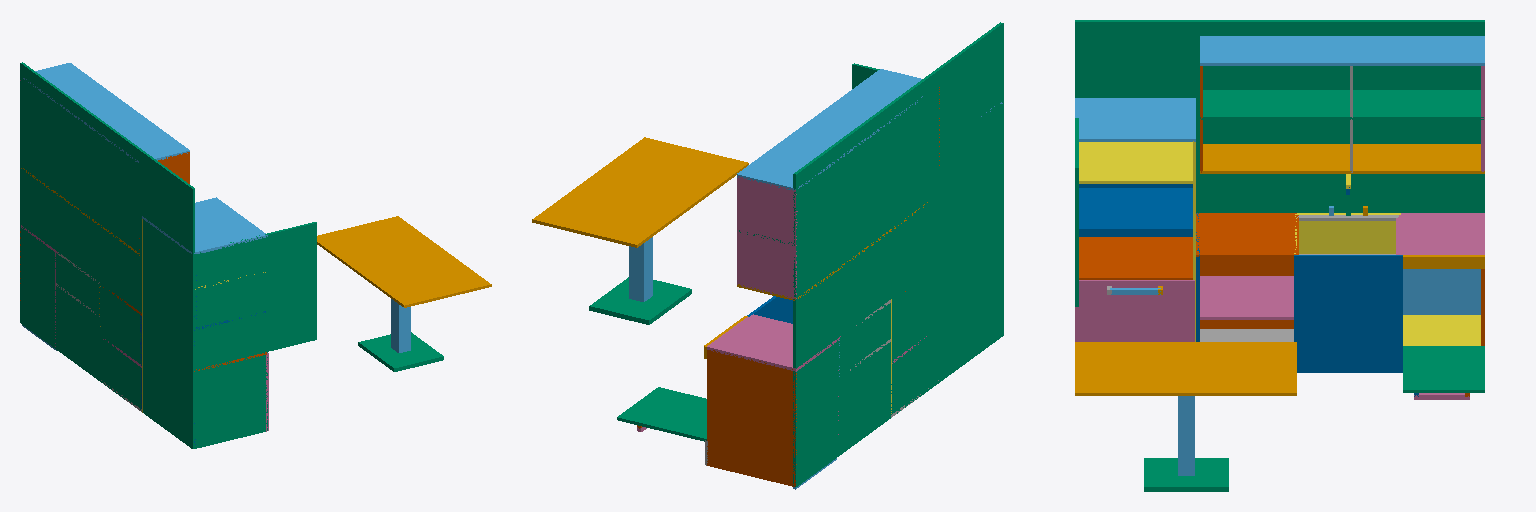
--- What the picture shows (computed from the rendered views, not written in the file) ---
3 views of the same robot in one strip: view 1: azimuth 30°, elevation 25°; view 2: azimuth 150°, elevation 25°; view 3: azimuth 270°, elevation 25° (orthographic).
Model kitchen with 51 links and 50 joints (50 fixed), rooted at world, posed all joints at 0.
Visible links, largest first — view 1: back_wall, fridge_left_wall, fridge_door, tabletop, cabinet_top, fridge_top, table_bottom, table_leg, cabinet_left_wall; view 2: back_wall, tabletop, dishwasher_right_side, cabinet_top, cabinet_right_wall, countertop_right, dishwasher_door, table_bottom, table_leg, sink_front_wall; view 3: back_wall, sink_front_wall, tabletop, cabinet_top, cabinet_bottom, cabinet_shelf, freezer_door, fridge_top, fridge_shelf2, fridge_shelf3, fridge_shelf1, countertop_left (+14 smaller).
Link boxes in pixels (x1,y1,x2,y2): back_wall: (20,62,194,448); fridge_left_wall: (191,236,267,448); fridge_door: (230,222,316,360); tabletop: (317,216,491,307); cabinet_top: (23,63,189,162); fridge_top: (142,197,267,253); table_bottom: (358,332,443,371); table_leg: (391,299,410,352); cabinet_left_wall: (139,152,189,249); back_wall: (793,22,1003,486); tabletop: (532,137,748,247); dishwasher_right_side: (707,350,796,486); cabinet_top: (737,69,922,190); cabinet_right_wall: (737,176,797,299); countertop_right: (707,314,840,371); dishwasher_door: (617,387,706,441); table_bottom: (589,277,691,324); table_leg: (629,237,652,301); sink_front_wall: (747,296,792,323); back_wall: (1075,20,1484,212); sink_front_wall: (1294,255,1402,372); tabletop: (1075,342,1296,395); cabinet_top: (1200,36,1484,65); cabinet_bottom: (1200,144,1484,173); cabinet_shelf: (1200,90,1483,119); freezer_door: (1075,280,1194,341); fridge_top: (1075,98,1195,141); fridge_shelf2: (1079,188,1192,231); fridge_shelf3: (1079,237,1192,279); fridge_shelf1: (1079,142,1192,183); countertop_left: (1196,213,1298,257).
Size in the robot's own frame: 1.2 by 1.2 by 1.01 metres.
Geometry: primitives only (box / cylinder / sphere), no mesh files.

URDF robot description (kitchen):
<robot name="kitchen">
  <link name="world"/>
  <link name="fridge_top">
    <visual>
      <geometry>
        <box size="0.3 0.355 0.01"/>
      </geometry>
      <origin xyz="0.075 0.08875 0.375" rpy="0 0 0"/>
    </visual>
    <collision>
    <origin xyz="0.075 0.08875 0.375" rpy="0 0 0"/>
      <geometry>
        <box size="0.3 0.355 0.01"/>
      </geometry>
    </collision>
  </link>
  <joint name="fridge_top_joint" type="fixed">
    <parent link="world"/>
    <child link="fridge_top"/>
    <origin xyz="0.075 0.08875 0.375" rpy="0 0 0"/>
  </joint>
  <link name="fridge_door">
    <visual>
      <geometry>
        <box size="0.35 0.01 0.45"/>
      </geometry>
      <origin xyz="0.1625 0.0025 0.265" rpy="0 0 0"/>
    </visual>
    <collision>
    <origin xyz="0.1625 0.0025 0.265" rpy="0 0 0"/>
      <geometry>
        <box size="0.35 0.01 0.45"/>
      </geometry>
    </collision>
  </link>
  <joint name="fridge_door_joint" type="fixed">
    <parent link="world"/>
    <child link="fridge_door"/>
    <origin xyz="0.1625 0.0025 0.265" rpy="0 0 0"/>
  </joint>
  <link name="fridge_shelf1">
    <visual>
      <geometry>
        <box size="0.295 0.35 0.01"/>
      </geometry>
      <origin xyz="0.075 0.0875 0.3075" rpy="0 0 0"/>
    </visual>
    <collision>
    <origin xyz="0.075 0.0875 0.3075" rpy="0 0 0"/>
      <geometry>
        <box size="0.295 0.35 0.01"/>
      </geometry>
    </collision>
  </link>
  <joint name="fridge_shelf1_joint" type="fixed">
    <parent link="world"/>
    <child link="fridge_shelf1"/>
    <origin xyz="0.075 0.0875 0.3075" rpy="0 0 0"/>
  </joint>
  <link name="fridge_shelf2">
    <visual>
      <geometry>
        <box size="0.295 0.35 0.01"/>
      </geometry>
      <origin xyz="0.075 0.0875 0.23" rpy="0 0 0"/>
    </visual>
    <collision>
    <origin xyz="0.075 0.0875 0.23" rpy="0 0 0"/>
      <geometry>
        <box size="0.295 0.35 0.01"/>
      </geometry>
    </collision>
  </link>
  <joint name="fridge_shelf2_joint" type="fixed">
    <parent link="world"/>
    <child link="fridge_shelf2"/>
    <origin xyz="0.075 0.0875 0.23" rpy="0 0 0"/>
  </joint>
  <link name="fridge_shelf3">
    <visual>
      <geometry>
        <box size="0.295 0.35 0.01"/>
      </geometry>
      <origin xyz="0.075 0.0875 0.15" rpy="0 0 0"/>
    </visual>
    <collision>
    <origin xyz="0.075 0.0875 0.15" rpy="0 0 0"/>
      <geometry>
        <box size="0.295 0.35 0.01"/>
      </geometry>
    </collision>
  </link>
  <joint name="fridge_shelf3_joint" type="fixed">
    <parent link="world"/>
    <child link="fridge_shelf3"/>
    <origin xyz="0.075 0.0875 0.15" rpy="0 0 0"/>
  </joint>
  <link name="freezer_door">
    <visual>
      <geometry>
        <box size="0.01 0.35 0.3"/>
      </geometry>
      <origin xyz="0.15 0.0875 0.075" rpy="0 0 0"/>
    </visual>
    <collision>
    <origin xyz="0.15 0.0875 0.075" rpy="0 0 0"/>
      <geometry>
        <box size="0.01 0.35 0.3"/>
      </geometry>
    </collision>
  </link>
  <joint name="freezer_door_joint" type="fixed">
    <parent link="world"/>
    <child link="freezer_door"/>
    <origin xyz="0.15 0.0875 0.075" rpy="0 0 0"/>
  </joint>
  <link name="freezer_handle_left">
    <visual>
      <geometry>
        <box size="0.035 0.015 0.015"/>
      </geometry>
      <origin xyz="0.1575 0.05 0.1375" rpy="0 0 0"/>
    </visual>
    <collision>
    <origin xyz="0.1575 0.05 0.1375" rpy="0 0 0"/>
      <geometry>
        <box size="0.035 0.015 0.015"/>
      </geometry>
    </collision>
  </link>
  <joint name="freezer_handle_left_joint" type="fixed">
    <parent link="world"/>
    <child link="freezer_handle_left"/>
    <origin xyz="0.1575 0.05 0.1375" rpy="0 0 0"/>
  </joint>
  <link name="freezer_handle_right">
    <visual>
      <geometry>
        <box size="0.035 0.015 0.015"/>
      </geometry>
      <origin xyz="0.1575 0.125 0.1375" rpy="0 0 0"/>
    </visual>
    <collision>
    <origin xyz="0.1575 0.125 0.1375" rpy="0 0 0"/>
      <geometry>
        <box size="0.035 0.015 0.015"/>
      </geometry>
    </collision>
  </link>
  <joint name="freezer_handle_right_joint" type="fixed">
    <parent link="world"/>
    <child link="freezer_handle_right"/>
    <origin xyz="0.1575 0.125 0.1375" rpy="0 0 0"/>
  </joint>
  <link name="freezer_handle">
    <visual>
      <geometry>
        <box size="0.015 0.15 0.015"/>
      </geometry>
      <origin xyz="0.1625 0.0875 0.1375" rpy="0 0 0"/>
    </visual>
    <collision>
    <origin xyz="0.1625 0.0875 0.1375" rpy="0 0 0"/>
      <geometry>
        <box size="0.015 0.15 0.015"/>
      </geometry>
    </collision>
  </link>
  <joint name="freezer_handle_joint" type="fixed">
    <parent link="world"/>
    <child link="freezer_handle"/>
    <origin xyz="0.1625 0.0875 0.1375" rpy="0 0 0"/>
  </joint>
  <link name="fridge_left_wall">
    <visual>
      <geometry>
        <box size="0.3 0.01 0.75"/>
      </geometry>
      <origin xyz="0.075 0.0025 0.1875" rpy="0 0 0"/>
    </visual>
    <collision>
    <origin xyz="0.075 0.0025 0.1875" rpy="0 0 0"/>
      <geometry>
        <box size="0.3 0.01 0.75"/>
      </geometry>
    </collision>
  </link>
  <joint name="fridge_left_wall_joint" type="fixed">
    <parent link="world"/>
    <child link="fridge_left_wall"/>
    <origin xyz="0.075 0.0025 0.1875" rpy="0 0 0"/>
  </joint>
  <link name="fridge_right_wall">
    <visual>
      <geometry>
        <box size="0.3 0.01 0.75"/>
      </geometry>
      <origin xyz="0.075 0.175 0.1875" rpy="0 0 0"/>
    </visual>
    <collision>
    <origin xyz="0.075 0.175 0.1875" rpy="0 0 0"/>
      <geometry>
        <box size="0.3 0.01 0.75"/>
      </geometry>
    </collision>
  </link>
  <joint name="fridge_right_wall_joint" type="fixed">
    <parent link="world"/>
    <child link="fridge_right_wall"/>
    <origin xyz="0.075 0.175 0.1875" rpy="0 0 0"/>
  </joint>
  <link name="fridge_back_wall">
    <visual>
      <geometry>
        <box size="0.01 0.35 0.75"/>
      </geometry>
      <origin xyz="0.005 0.0875 0.1875" rpy="0 0 0"/>
    </visual>
    <collision>
    <origin xyz="0.005 0.0875 0.1875" rpy="0 0 0"/>
      <geometry>
        <box size="0.01 0.35 0.75"/>
      </geometry>
    </collision>
  </link>
  <joint name="fridge_back_wall_joint" type="fixed">
    <parent link="world"/>
    <child link="fridge_back_wall"/>
    <origin xyz="0.005 0.0875 0.1875" rpy="0 0 0"/>
  </joint>
  <link name="countertop_left">
    <visual>
      <geometry>
        <box size="0.3 0.3 0.01"/>
      </geometry>
      <origin xyz="0.075 0.2525 0.1875" rpy="0 0 0"/>
    </visual>
    <collision>
    <origin xyz="0.075 0.2525 0.1875" rpy="0 0 0"/>
      <geometry>
        <box size="0.3 0.3 0.01"/>
      </geometry>
    </collision>
  </link>
  <joint name="countertop_left_joint" type="fixed">
    <parent link="world"/>
    <child link="countertop_left"/>
    <origin xyz="0.075 0.2525 0.1875" rpy="0 0 0"/>
  </joint>
  <link name="countertop_right">
    <visual>
      <geometry>
        <box size="0.3 0.26 0.01"/>
      </geometry>
      <origin xyz="0.075 0.535 0.1875" rpy="0 0 0"/>
    </visual>
    <collision>
    <origin xyz="0.075 0.535 0.1875" rpy="0 0 0"/>
      <geometry>
        <box size="0.3 0.26 0.01"/>
      </geometry>
    </collision>
  </link>
  <joint name="countertop_right_joint" type="fixed">
    <parent link="world"/>
    <child link="countertop_right"/>
    <origin xyz="0.075 0.535 0.1875" rpy="0 0 0"/>
  </joint>
  <link name="sink_bottom">
    <visual>
      <geometry>
        <box size="0.3 0.3 0.01"/>
      </geometry>
      <origin xyz="0.075 0.4 0.125" rpy="0 0 0"/>
    </visual>
    <collision>
    <origin xyz="0.075 0.4 0.125" rpy="0 0 0"/>
      <geometry>
        <box size="0.3 0.3 0.01"/>
      </geometry>
    </collision>
  </link>
  <joint name="sink_bottom_joint" type="fixed">
    <parent link="world"/>
    <child link="sink_bottom"/>
    <origin xyz="0.075 0.4 0.125" rpy="0 0 0"/>
  </joint>
  <link name="sink_left_wall">
    <visual>
      <geometry>
        <box size="0.3 0.01 0.125"/>
      </geometry>
      <origin xyz="0.075 0.325 0.15625" rpy="0 0 0"/>
    </visual>
    <collision>
    <origin xyz="0.075 0.325 0.15625" rpy="0 0 0"/>
      <geometry>
        <box size="0.3 0.01 0.125"/>
      </geometry>
    </collision>
  </link>
  <joint name="sink_left_wall_joint" type="fixed">
    <parent link="world"/>
    <child link="sink_left_wall"/>
    <origin xyz="0.075 0.325 0.15625" rpy="0 0 0"/>
  </joint>
  <link name="sink_right_wall">
    <visual>
      <geometry>
        <box size="0.3 0.01 0.125"/>
      </geometry>
      <origin xyz="0.075 0.475 0.15625" rpy="0 0 0"/>
    </visual>
    <collision>
    <origin xyz="0.075 0.475 0.15625" rpy="0 0 0"/>
      <geometry>
        <box size="0.3 0.01 0.125"/>
      </geometry>
    </collision>
  </link>
  <joint name="sink_right_wall_joint" type="fixed">
    <parent link="world"/>
    <child link="sink_right_wall"/>
    <origin xyz="0.075 0.475 0.15625" rpy="0 0 0"/>
  </joint>
  <link name="back_wall">
    <visual>
      <geometry>
        <box size="0.01 1.2 1.0"/>
      </geometry>
      <origin xyz="0.0025 0.3 0.25" rpy="0 0 0"/>
    </visual>
    <collision>
    <origin xyz="0.0025 0.3 0.25" rpy="0 0 0"/>
      <geometry>
        <box size="0.01 1.2 1.0"/>
      </geometry>
    </collision>
  </link>
  <joint name="back_wall_joint" type="fixed">
    <parent link="world"/>
    <child link="back_wall"/>
    <origin xyz="0.0025 0.3 0.25" rpy="0 0 0"/>
  </joint>
  <link name="sink_back_wall">
    <visual>
      <geometry>
        <box size="0.01 0.31 0.38"/>
      </geometry>
      <origin xyz="0.0075 0.4 0.095" rpy="0 0 0"/>
    </visual>
    <collision>
    <origin xyz="0.0075 0.4 0.095" rpy="0 0 0"/>
      <geometry>
        <box size="0.01 0.31 0.38"/>
      </geometry>
    </collision>
  </link>
  <joint name="sink_back_wall_joint" type="fixed">
    <parent link="world"/>
    <child link="sink_back_wall"/>
    <origin xyz="0.0075 0.4 0.095" rpy="0 0 0"/>
  </joint>
  <link name="sink_front_wall">
    <visual>
      <geometry>
        <box size="0.01 0.32 0.38"/>
      </geometry>
      <origin xyz="0.15 0.4 0.095" rpy="0 0 0"/>
    </visual>
    <collision>
    <origin xyz="0.15 0.4 0.095" rpy="0 0 0"/>
      <geometry>
        <box size="0.01 0.32 0.38"/>
      </geometry>
    </collision>
  </link>
  <joint name="sink_front_wall_joint" type="fixed">
    <parent link="world"/>
    <child link="sink_front_wall"/>
    <origin xyz="0.15 0.4 0.095" rpy="0 0 0"/>
  </joint>
  <link name="dishwasher_right_side">
    <visual>
      <geometry>
        <box size="0.3 0.01 0.375"/>
      </geometry>
      <origin xyz="0.075 0.5975 0.09375" rpy="0 0 0"/>
    </visual>
    <collision>
    <origin xyz="0.075 0.5975 0.09375" rpy="0 0 0"/>
      <geometry>
        <box size="0.3 0.01 0.375"/>
      </geometry>
    </collision>
  </link>
  <joint name="dishwasher_right_side_joint" type="fixed">
    <parent link="world"/>
    <child link="dishwasher_right_side"/>
    <origin xyz="0.075 0.5975 0.09375" rpy="0 0 0"/>
  </joint>
  <link name="dishwasher_left_side">
    <visual>
      <geometry>
        <box size="0.3 0.01 0.375"/>
      </geometry>
      <origin xyz="0.075 0.4775 0.09375" rpy="0 0 0"/>
    </visual>
    <collision>
    <origin xyz="0.075 0.4775 0.09375" rpy="0 0 0"/>
      <geometry>
        <box size="0.3 0.01 0.375"/>
      </geometry>
    </collision>
  </link>
  <joint name="dishwasher_left_side_joint" type="fixed">
    <parent link="world"/>
    <child link="dishwasher_left_side"/>
    <origin xyz="0.075 0.4775 0.09375" rpy="0 0 0"/>
  </joint>
  <link name="dishwasher_bottom_wall">
    <visual>
      <geometry>
        <box size="0.01 0.24 0.08"/>
      </geometry>
      <origin xyz="0.15 0.54 0.02" rpy="0 0 0"/>
    </visual>
    <collision>
    <origin xyz="0.15 0.54 0.02" rpy="0 0 0"/>
      <geometry>
        <box size="0.01 0.24 0.08"/>
      </geometry>
    </collision>
  </link>
  <joint name="dishwasher_bottom_wall_joint" type="fixed">
    <parent link="world"/>
    <child link="dishwasher_bottom_wall"/>
    <origin xyz="0.15 0.54 0.02" rpy="0 0 0"/>
  </joint>
  <link name="dishwasher_front_top_wall">
    <visual>
      <geometry>
        <box size="0.01 0.24 0.04"/>
      </geometry>
      <origin xyz="0.1525 0.54 0.18" rpy="0 0 0"/>
    </visual>
    <collision>
    <origin xyz="0.1525 0.54 0.18" rpy="0 0 0"/>
      <geometry>
        <box size="0.01 0.24 0.04"/>
      </geometry>
    </collision>
  </link>
  <joint name="dishwasher_front_top_wall_joint" type="fixed">
    <parent link="world"/>
    <child link="dishwasher_front_top_wall"/>
    <origin xyz="0.1525 0.54 0.18" rpy="0 0 0"/>
  </joint>
  <link name="dishwasher_back_wall">
    <visual>
      <geometry>
        <box size="0.01 0.24 0.37"/>
      </geometry>
      <origin xyz="0.005 0.5375 0.0875" rpy="0 0 0"/>
    </visual>
    <collision>
    <origin xyz="0.005 0.5375 0.0875" rpy="0 0 0"/>
      <geometry>
        <box size="0.01 0.24 0.37"/>
      </geometry>
    </collision>
  </link>
  <joint name="dishwasher_back_wall_joint" type="fixed">
    <parent link="world"/>
    <child link="dishwasher_back_wall"/>
    <origin xyz="0.005 0.5375 0.0875" rpy="0 0 0"/>
  </joint>
  <link name="dishwasher_door">
    <visual>
      <geometry>
        <box size="0.3 0.24 0.01"/>
      </geometry>
      <origin xyz="0.225 0.54 0.04" rpy="0 0 0"/>
    </visual>
    <collision>
    <origin xyz="0.225 0.54 0.04" rpy="0 0 0"/>
      <geometry>
        <box size="0.3 0.24 0.01"/>
      </geometry>
    </collision>
  </link>
  <joint name="dishwasher_door_joint" type="fixed">
    <parent link="world"/>
    <child link="dishwasher_door"/>
    <origin xyz="0.225 0.54 0.04" rpy="0 0 0"/>
  </joint>
  <link name="dishwasher_bottom">
    <visual>
      <geometry>
        <box size="0.28 0.24 0.01"/>
      </geometry>
      <origin xyz="0.075 0.5375 0.025" rpy="0 0 0"/>
    </visual>
    <collision>
    <origin xyz="0.075 0.5375 0.025" rpy="0 0 0"/>
      <geometry>
        <box size="0.28 0.24 0.01"/>
      </geometry>
    </collision>
  </link>
  <joint name="dishwasher_bottom_joint" type="fixed">
    <parent link="world"/>
    <child link="dishwasher_bottom"/>
    <origin xyz="0.075 0.5375 0.025" rpy="0 0 0"/>
  </joint>
  <link name="dishwasher_handle_left">
    <visual>
      <geometry>
        <box size="0.015 0.015 0.035"/>
      </geometry>
      <origin xyz="0.275 0.5 0.03" rpy="0 0 0"/>
    </visual>
    <collision>
    <origin xyz="0.275 0.5 0.03" rpy="0 0 0"/>
      <geometry>
        <box size="0.015 0.015 0.035"/>
      </geometry>
    </collision>
  </link>
  <joint name="dishwasher_handle_left_joint" type="fixed">
    <parent link="world"/>
    <child link="dishwasher_handle_left"/>
    <origin xyz="0.275 0.5 0.03" rpy="0 0 0"/>
  </joint>
  <link name="dishwasher_handle_right">
    <visual>
      <geometry>
        <box size="0.015 0.015 0.035"/>
      </geometry>
      <origin xyz="0.275 0.575 0.03" rpy="0 0 0"/>
    </visual>
    <collision>
    <origin xyz="0.275 0.575 0.03" rpy="0 0 0"/>
      <geometry>
        <box size="0.015 0.015 0.035"/>
      </geometry>
    </collision>
  </link>
  <joint name="dishwasher_handle_right_joint" type="fixed">
    <parent link="world"/>
    <child link="dishwasher_handle_right"/>
    <origin xyz="0.275 0.575 0.03" rpy="0 0 0"/>
  </joint>
  <link name="dishwasher_handle">
    <visual>
      <geometry>
        <box size="0.015 0.165 0.015"/>
      </geometry>
      <origin xyz="0.275 0.5375 0.02" rpy="0 0 0"/>
    </visual>
    <collision>
    <origin xyz="0.275 0.5375 0.02" rpy="0 0 0"/>
      <geometry>
        <box size="0.015 0.165 0.015"/>
      </geometry>
    </collision>
  </link>
  <joint name="dishwasher_handle_joint" type="fixed">
    <parent link="world"/>
    <child link="dishwasher_handle"/>
    <origin xyz="0.275 0.5375 0.02" rpy="0 0 0"/>
  </joint>
  <link name="faucet_platform">
    <visual>
      <geometry>
        <box size="0.04 0.3 0.01"/>
      </geometry>
      <origin xyz="0.01 0.4 0.1875" rpy="0 0 0"/>
    </visual>
    <collision>
    <origin xyz="0.01 0.4 0.1875" rpy="0 0 0"/>
      <geometry>
        <box size="0.04 0.3 0.01"/>
      </geometry>
    </collision>
  </link>
  <joint name="faucet_platform_joint" type="fixed">
    <parent link="world"/>
    <child link="faucet_platform"/>
    <origin xyz="0.01 0.4 0.1875" rpy="0 0 0"/>
  </joint>
  <link name="hot_water_knob">
    <visual>
      <geometry>
        <box size="0.015 0.015 0.03"/>
      </geometry>
      <origin xyz="0.01 0.425 0.195" rpy="0 0 0"/>
    </visual>
    <collision>
    <origin xyz="0.01 0.425 0.195" rpy="0 0 0"/>
      <geometry>
        <box size="0.015 0.015 0.03"/>
      </geometry>
    </collision>
  </link>
  <joint name="hot_water_knob_joint" type="fixed">
    <parent link="world"/>
    <child link="hot_water_knob"/>
    <origin xyz="0.01 0.425 0.195" rpy="0 0 0"/>
  </joint>
  <link name="cold_water_knob">
    <visual>
      <geometry>
        <box size="0.015 0.015 0.03"/>
      </geometry>
      <origin xyz="0.01 0.375 0.195" rpy="0 0 0"/>
    </visual>
    <collision>
    <origin xyz="0.01 0.375 0.195" rpy="0 0 0"/>
      <geometry>
        <box size="0.015 0.015 0.03"/>
      </geometry>
    </collision>
  </link>
  <joint name="cold_water_knob_joint" type="fixed">
    <parent link="world"/>
    <child link="cold_water_knob"/>
    <origin xyz="0.01 0.375 0.195" rpy="0 0 0"/>
  </joint>
  <link name="faucet_1">
    <visual>
      <geometry>
        <box size="0.015 0.015 0.15"/>
      </geometry>
      <origin xyz="0.01 0.4 0.225" rpy="0 0 0"/>
    </visual>
    <collision>
    <origin xyz="0.01 0.4 0.225" rpy="0 0 0"/>
      <geometry>
        <box size="0.015 0.015 0.15"/>
      </geometry>
    </collision>
  </link>
  <joint name="faucet_1_joint" type="fixed">
    <parent link="world"/>
    <child link="faucet_1"/>
    <origin xyz="0.01 0.4 0.225" rpy="0 0 0"/>
  </joint>
  <link name="faucet_2">
    <visual>
      <geometry>
        <box size="0.125 0.015 0.015"/>
      </geometry>
      <origin xyz="0.0375 0.4 0.2625" rpy="0 0 0"/>
    </visual>
    <collision>
    <origin xyz="0.0375 0.4 0.2625" rpy="0 0 0"/>
      <geometry>
        <box size="0.125 0.015 0.015"/>
      </geometry>
    </collision>
  </link>
  <joint name="faucet_2_joint" type="fixed">
    <parent link="world"/>
    <child link="faucet_2"/>
    <origin xyz="0.0375 0.4 0.2625" rpy="0 0 0"/>
  </joint>
  <link name="faucet_3">
    <visual>
      <geometry>
        <box size="0.01 0.01 0.025"/>
      </geometry>
      <origin xyz="0.06625 0.4 0.25625" rpy="0 0 0"/>
    </visual>
    <collision>
    <origin xyz="0.06625 0.4 0.25625" rpy="0 0 0"/>
      <geometry>
        <box size="0.01 0.01 0.025"/>
      </geometry>
    </collision>
  </link>
  <joint name="faucet_3_joint" type="fixed">
    <parent link="world"/>
    <child link="faucet_3"/>
    <origin xyz="0.06625 0.4 0.25625" rpy="0 0 0"/>
  </joint>
  <link name="cabinet_left_wall">
    <visual>
      <geometry>
        <box size="0.2 0.01 0.35"/>
      </geometry>
      <origin xyz="0.05 0.185 0.3875" rpy="0 0 0"/>
    </visual>
    <collision>
    <origin xyz="0.05 0.185 0.3875" rpy="0 0 0"/>
      <geometry>
        <box size="0.2 0.01 0.35"/>
      </geometry>
    </collision>
  </link>
  <joint name="cabinet_left_wall_joint" type="fixed">
    <parent link="world"/>
    <child link="cabinet_left_wall"/>
    <origin xyz="0.05 0.185 0.3875" rpy="0 0 0"/>
  </joint>
  <link name="cabinet_right_wall">
    <visual>
      <geometry>
        <box size="0.2 0.01 0.35"/>
      </geometry>
      <origin xyz="0.05 0.5975 0.3875" rpy="0 0 0"/>
    </visual>
    <collision>
    <origin xyz="0.05 0.5975 0.3875" rpy="0 0 0"/>
      <geometry>
        <box size="0.2 0.01 0.35"/>
      </geometry>
    </collision>
  </link>
  <joint name="cabinet_right_wall_joint" type="fixed">
    <parent link="world"/>
    <child link="cabinet_right_wall"/>
    <origin xyz="0.05 0.5975 0.3875" rpy="0 0 0"/>
  </joint>
  <link name="cabinet_middle_wall">
    <visual>
      <geometry>
        <box size="0.2 0.01 0.35"/>
      </geometry>
      <origin xyz="0.05 0.405 0.3875" rpy="0 0 0"/>
    </visual>
    <collision>
    <origin xyz="0.05 0.405 0.3875" rpy="0 0 0"/>
      <geometry>
        <box size="0.2 0.01 0.35"/>
      </geometry>
    </collision>
  </link>
  <joint name="cabinet_middle_wall_joint" type="fixed">
    <parent link="world"/>
    <child link="cabinet_middle_wall"/>
    <origin xyz="0.05 0.405 0.3875" rpy="0 0 0"/>
  </joint>
  <link name="cabinet_bottom">
    <visual>
      <geometry>
        <box size="0.2 0.835 0.01"/>
      </geometry>
      <origin xyz="0.05 0.39125 0.3" rpy="0 0 0"/>
    </visual>
    <collision>
    <origin xyz="0.05 0.39125 0.3" rpy="0 0 0"/>
      <geometry>
        <box size="0.2 0.835 0.01"/>
      </geometry>
    </collision>
  </link>
  <joint name="cabinet_bottom_joint" type="fixed">
    <parent link="world"/>
    <child link="cabinet_bottom"/>
    <origin xyz="0.05 0.39125 0.3" rpy="0 0 0"/>
  </joint>
  <link name="cabinet_top">
    <visual>
      <geometry>
        <box size="0.2 0.835 0.01"/>
      </geometry>
      <origin xyz="0.05 0.39125 0.475" rpy="0 0 0"/>
    </visual>
    <collision>
    <origin xyz="0.05 0.39125 0.475" rpy="0 0 0"/>
      <geometry>
        <box size="0.2 0.835 0.01"/>
      </geometry>
    </collision>
  </link>
  <joint name="cabinet_top_joint" type="fixed">
    <parent link="world"/>
    <child link="cabinet_top"/>
    <origin xyz="0.05 0.39125 0.475" rpy="0 0 0"/>
  </joint>
  <link name="cabinet_shelf">
    <visual>
      <geometry>
        <box size="0.2 0.835 0.01"/>
      </geometry>
      <origin xyz="0.05 0.39125 0.3875" rpy="0 0 0"/>
    </visual>
    <collision>
    <origin xyz="0.05 0.39125 0.3875" rpy="0 0 0"/>
      <geometry>
        <box size="0.2 0.835 0.01"/>
      </geometry>
    </collision>
  </link>
  <joint name="cabinet_shelf_joint" type="fixed">
    <parent link="world"/>
    <child link="cabinet_shelf"/>
    <origin xyz="0.05 0.39125 0.3875" rpy="0 0 0"/>
  </joint>
  <link name="lower_cabinet_right_wall">
    <visual>
      <geometry>
        <box size="0.3 0.01 0.38"/>
      </geometry>
      <origin xyz="0.075 0.3225 0.095" rpy="0 0 0"/>
    </visual>
    <collision>
    <origin xyz="0.075 0.3225 0.095" rpy="0 0 0"/>
      <geometry>
        <box size="0.3 0.01 0.38"/>
      </geometry>
    </collision>
  </link>
  <joint name="lower_cabinet_right_wall_joint" type="fixed">
    <parent link="world"/>
    <child link="lower_cabinet_right_wall"/>
    <origin xyz="0.075 0.3225 0.095" rpy="0 0 0"/>
  </joint>
  <link name="lower_cabinet_left_wall">
    <visual>
      <geometry>
        <box size="0.3 0.01 0.38"/>
      </geometry>
      <origin xyz="0.075 0.18 0.095" rpy="0 0 0"/>
    </visual>
    <collision>
    <origin xyz="0.075 0.18 0.095" rpy="0 0 0"/>
      <geometry>
        <box size="0.3 0.01 0.38"/>
      </geometry>
    </collision>
  </link>
  <joint name="lower_cabinet_left_wall_joint" type="fixed">
    <parent link="world"/>
    <child link="lower_cabinet_left_wall"/>
    <origin xyz="0.075 0.18 0.095" rpy="0 0 0"/>
  </joint>
  <link name="lower_cabinet_back_wall">
    <visual>
      <geometry>
        <box size="0.01 0.3 0.375"/>
      </geometry>
      <origin xyz="0.005 0.25 0.0925" rpy="0 0 0"/>
    </visual>
    <collision>
    <origin xyz="0.005 0.25 0.0925" rpy="0 0 0"/>
      <geometry>
        <box size="0.01 0.3 0.375"/>
      </geometry>
    </collision>
  </link>
  <joint name="lower_cabinet_back_wall_joint" type="fixed">
    <parent link="world"/>
    <child link="lower_cabinet_back_wall"/>
    <origin xyz="0.005 0.25 0.0925" rpy="0 0 0"/>
  </joint>
  <link name="lower_cabinet_shelf">
    <visual>
      <geometry>
        <box size="0.3 0.3 0.01"/>
      </geometry>
      <origin xyz="0.075 0.25 0.0875" rpy="0 0 0"/>
    </visual>
    <collision>
    <origin xyz="0.075 0.25 0.0875" rpy="0 0 0"/>
      <geometry>
        <box size="0.3 0.3 0.01"/>
      </geometry>
    </collision>
  </link>
  <joint name="lower_cabinet_shelf_joint" type="fixed">
    <parent link="world"/>
    <child link="lower_cabinet_shelf"/>
    <origin xyz="0.075 0.25 0.0875" rpy="0 0 0"/>
  </joint>
  <link name="lower_cabinet_bottom">
    <visual>
      <geometry>
        <box size="0.3 0.3 0.01"/>
      </geometry>
      <origin xyz="0.075 0.25 0.0025" rpy="0 0 0"/>
    </visual>
    <collision>
    <origin xyz="0.075 0.25 0.0025" rpy="0 0 0"/>
      <geometry>
        <box size="0.3 0.3 0.01"/>
      </geometry>
    </collision>
  </link>
  <joint name="lower_cabinet_bottom_joint" type="fixed">
    <parent link="world"/>
    <child link="lower_cabinet_bottom"/>
    <origin xyz="0.075 0.25 0.0025" rpy="0 0 0"/>
  </joint>
  <link name="tabletop">
    <visual>
      <geometry>
        <box size="0.35 0.65 0.01"/>
      </geometry>
      <origin xyz="0.5125 0.1625 0.175" rpy="0 0 0"/>
    </visual>
    <collision>
    <origin xyz="0.5125 0.1625 0.175" rpy="0 0 0"/>
      <geometry>
        <box size="0.35 0.65 0.01"/>
      </geometry>
    </collision>
  </link>
  <joint name="tabletop_joint" type="fixed">
    <parent link="world"/>
    <child link="tabletop"/>
    <origin xyz="0.5125 0.1625 0.175" rpy="0 0 0"/>
  </joint>
  <link name="table_leg">
    <visual>
      <geometry>
        <box size="0.05 0.05 0.35"/>
      </geometry>
      <origin xyz="0.5125 0.1625 0.0875" rpy="0 0 0"/>
    </visual>
    <collision>
    <origin xyz="0.5125 0.1625 0.0875" rpy="0 0 0"/>
      <geometry>
        <box size="0.05 0.05 0.35"/>
      </geometry>
    </collision>
  </link>
  <joint name="table_leg_joint" type="fixed">
    <parent link="world"/>
    <child link="table_leg"/>
    <origin xyz="0.5125 0.1625 0.0875" rpy="0 0 0"/>
  </joint>
  <link name="table_bottom">
    <visual>
      <geometry>
        <box size="0.2 0.25 0.015"/>
      </geometry>
      <origin xyz="0.5125 0.1625 0.00375" rpy="0 0 0"/>
    </visual>
    <collision>
    <origin xyz="0.5125 0.1625 0.00375" rpy="0 0 0"/>
      <geometry>
        <box size="0.2 0.25 0.015"/>
      </geometry>
    </collision>
  </link>
  <joint name="table_bottom_joint" type="fixed">
    <parent link="world"/>
    <child link="table_bottom"/>
    <origin xyz="0.5125 0.1625 0.00375" rpy="0 0 0"/>
  </joint>
</robot>
